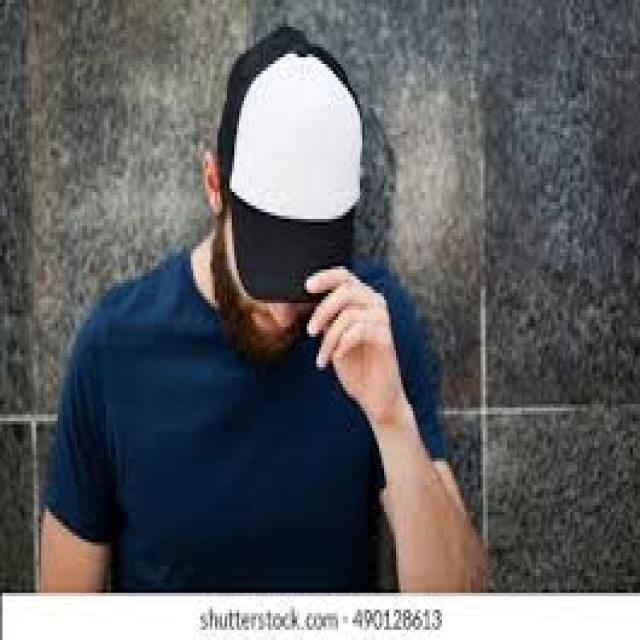cap: (203, 20, 367, 367)
